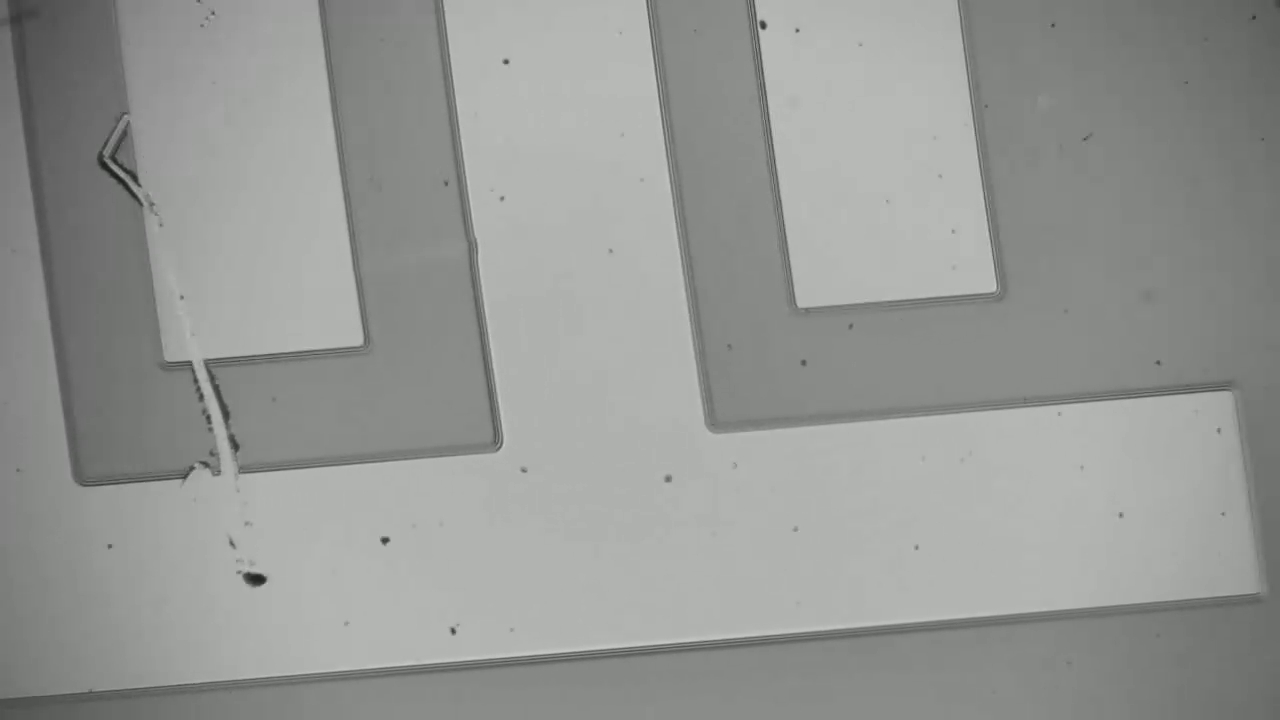Short_circuit: (178, 346, 269, 503)
